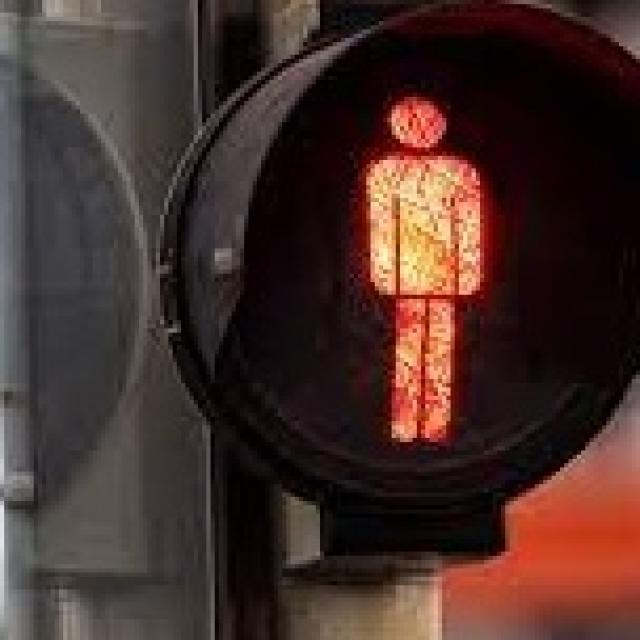red-crossing: (345, 72, 501, 460)
